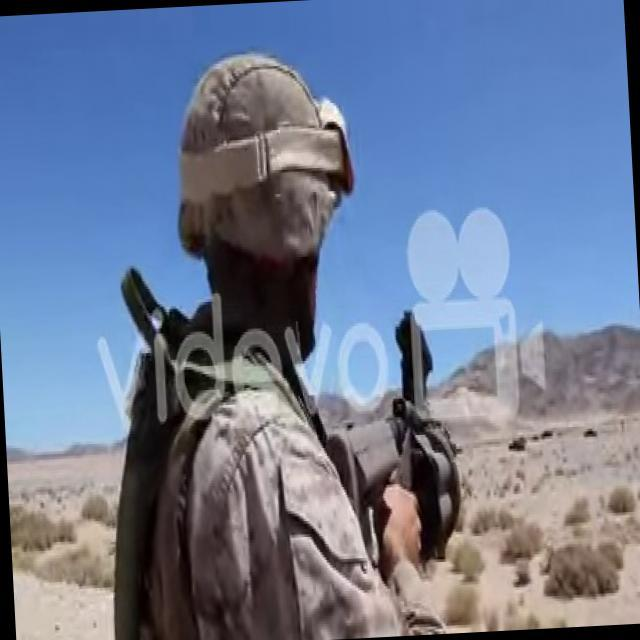rocket: (323, 302, 466, 570)
